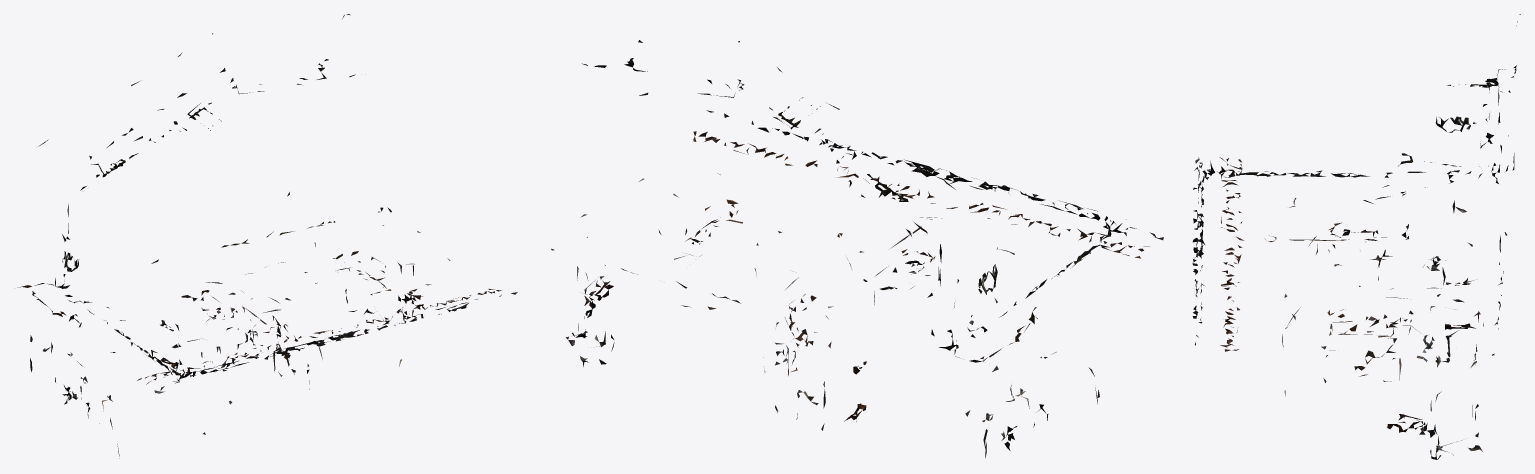
3 renders of one model, left to right at view 1: azimuth 30°, elevation 25°; view 2: azimuth 150°, elevation 25°; view 3: azimuth 270°, elevation 25°, orthographic. The views are drawn at different scales.
Bounding box in the file's own units: 12.51 × 10.2 × 8.51.
Materials: 1 (1 with a texture image).
